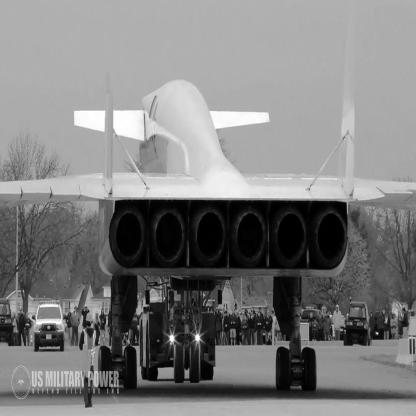XB70: (1, 2, 416, 393)
